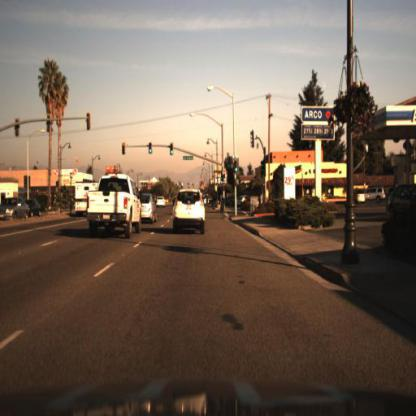biker: (218, 190, 228, 223), (218, 192, 228, 223)
car: (86, 174, 142, 238), (173, 190, 208, 234), (74, 181, 104, 224), (1, 196, 43, 220), (141, 187, 156, 231), (140, 190, 157, 228), (364, 183, 388, 204), (348, 184, 365, 210), (349, 190, 369, 207)
trafficLight-Green: (234, 157, 242, 184), (167, 141, 175, 160), (148, 144, 155, 162), (233, 155, 239, 176), (146, 142, 153, 157), (170, 144, 176, 159), (222, 175, 228, 187)
trafficLight-RedLeft: (121, 141, 130, 164), (119, 144, 128, 158)
